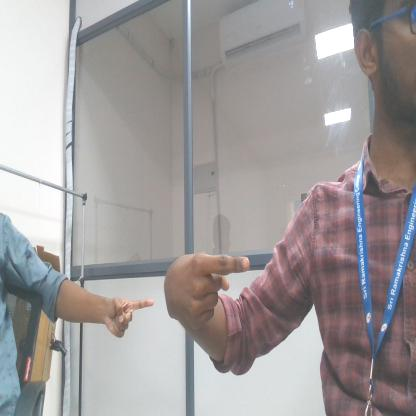Left: (163, 235, 252, 338), (100, 278, 162, 358)
